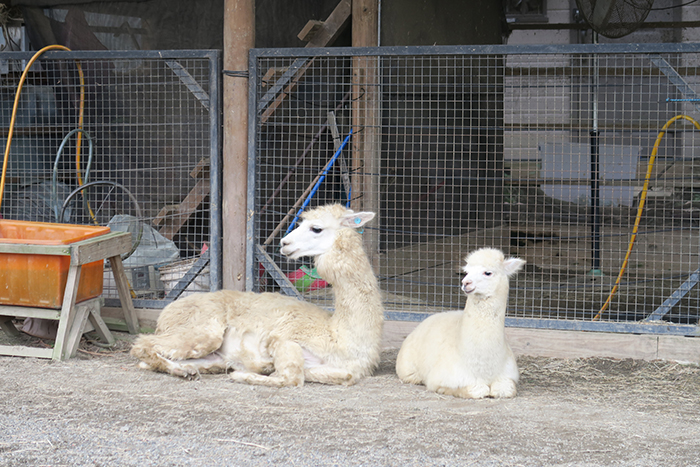alpaca: (130, 202, 385, 387), (395, 248, 530, 399)
